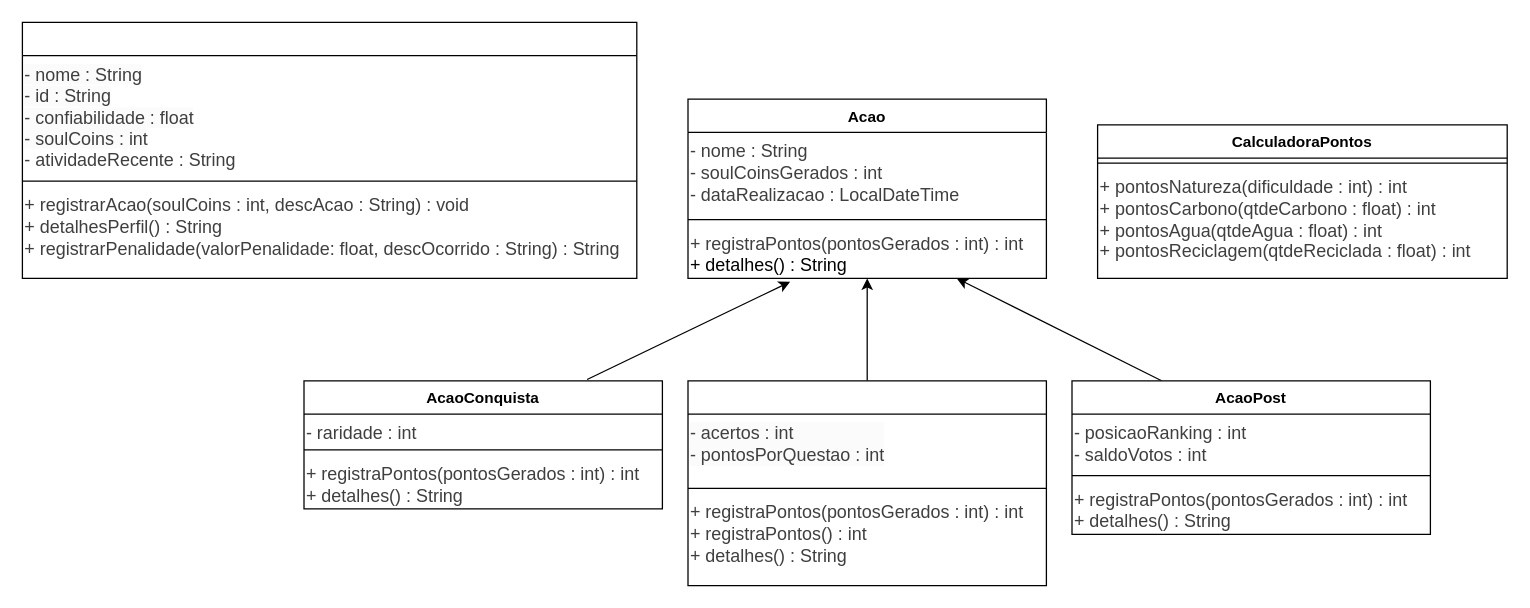
This 1530x608 diagram has some shape labels left out. The shapes that lost their labels are listed below. From the top down, each one's box as (x1, y1, x2, y2) in pixels, then its label:
(21, 21, 637, 278): Usuario
(687, 380, 1046, 586): AcaoQuiz
